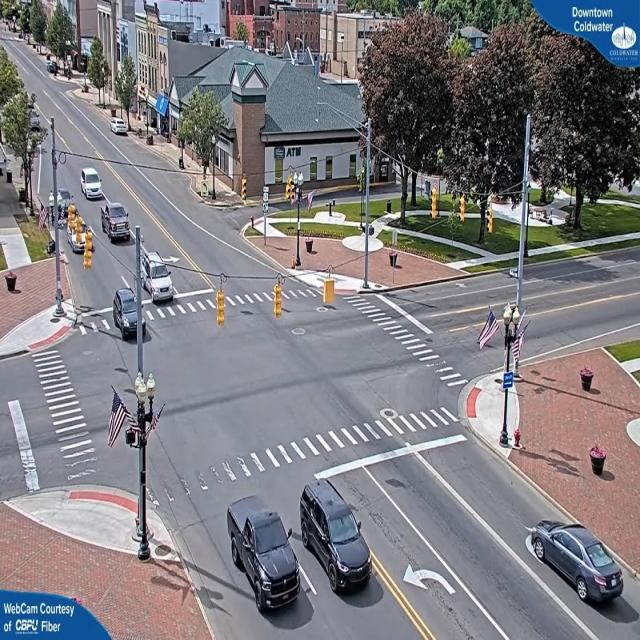car: (301, 478, 374, 601), (227, 497, 303, 614), (528, 527, 626, 609), (138, 249, 177, 304), (113, 288, 144, 340), (105, 205, 134, 243), (81, 168, 104, 202), (112, 120, 129, 136)
